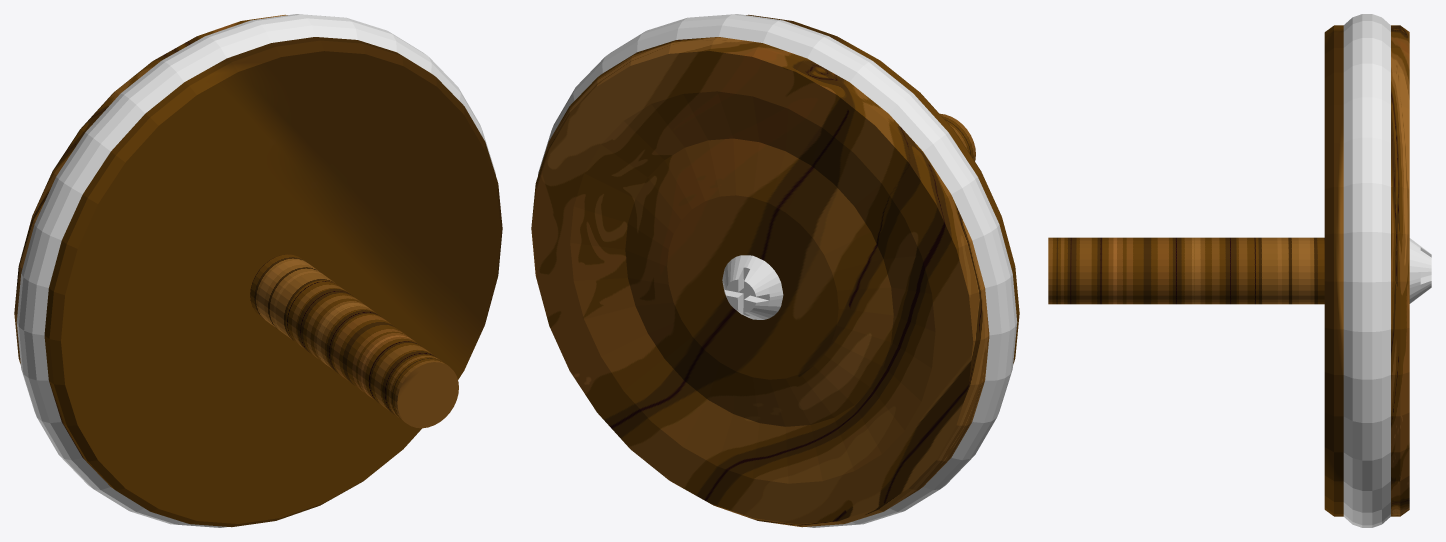
Rendered from Roue1.fbx.
3 renders of one model, left to right at view 1: azimuth 30°, elevation 25°; view 2: azimuth 150°, elevation 25°; view 3: azimuth 270°, elevation 25°, orthographic. The views are drawn at different scales.
Parts seen in each view (by area): view 1: Roue, Pneu, Avant; view 2: Avant, Pneu, Visse, Roue; view 3: Roue, Pneu, Avant, Visse.
Part boxes in pixels (x1,y1,x2,y2): Roue: (44,37,502,527); Pneu: (16,14,495,527); Avant: (14,14,287,363); Avant: (531,37,989,527); Pneu: (538,14,1017,527); Visse: (722,255,783,319); Roue: (746,14,1019,363); Roue: (1048,25,1343,516); Pneu: (1343,14,1390,527); Avant: (1391,25,1409,516); Visse: (1409,238,1431,303).
Bounding box in the file's own units: 209 × 209 × 156.
